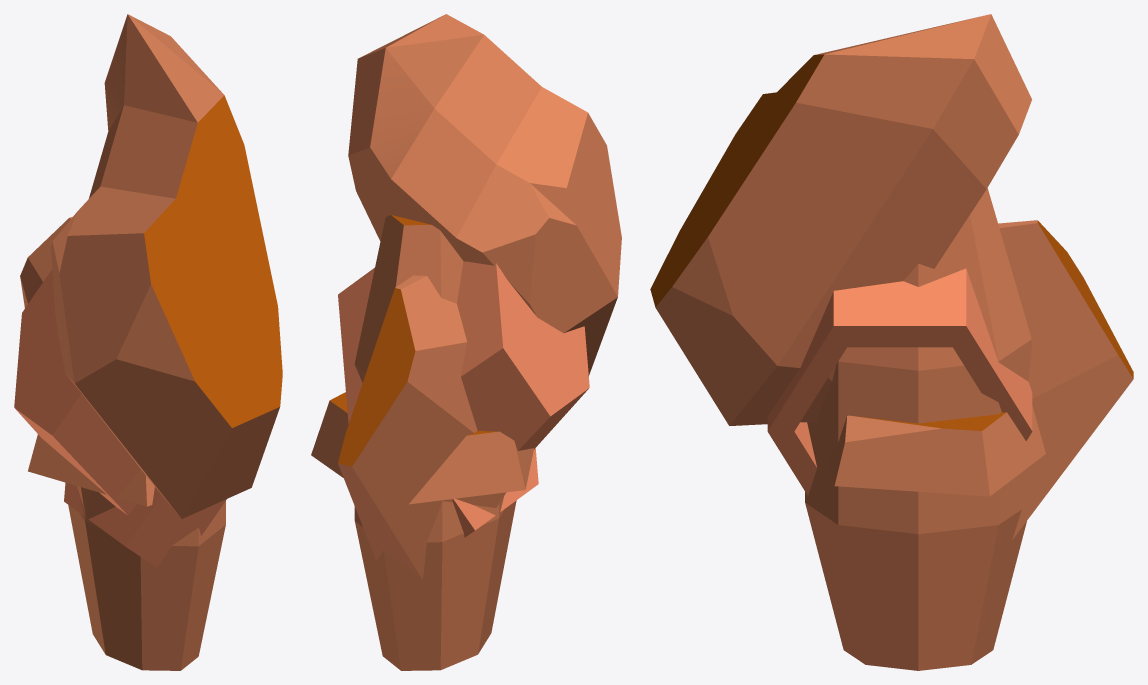
File: astroid03.glb
3 views of the same model, side by side, from view 1: azimuth 30°, elevation 25°; view 2: azimuth 150°, elevation 25°; view 3: azimuth 270°, elevation 25° (orthographic). The views are drawn at different scales.
Parts seen in each view (by area): view 1: mergedBlocks(Clone); view 2: mergedBlocks(Clone); view 3: mergedBlocks(Clone).
Boxes of the visible parts, <box> form: mergedBlocks(Clone): <box>14,14,282,670</box>; mergedBlocks(Clone): <box>311,14,621,670</box>; mergedBlocks(Clone): <box>650,14,1133,670</box>.
Size of the model in its own units: 1.41 by 3.8 by 2.58.
1 material, 1 textured.
